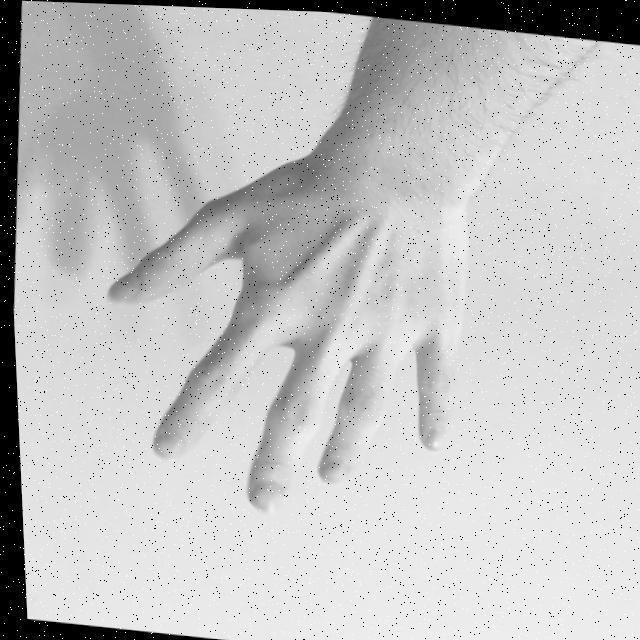no-gloves: (80, 145, 472, 532)
